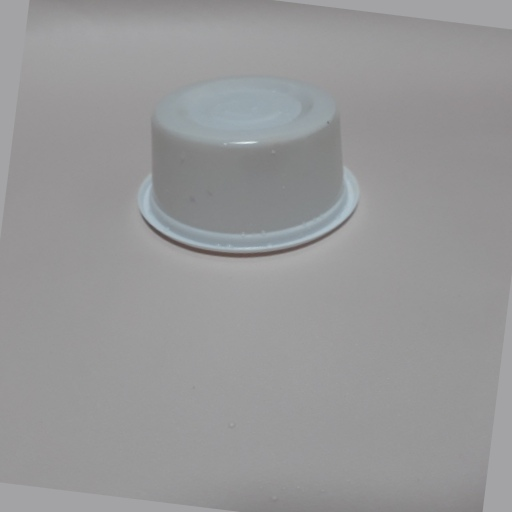Plastic_5: (128, 72, 361, 259)
